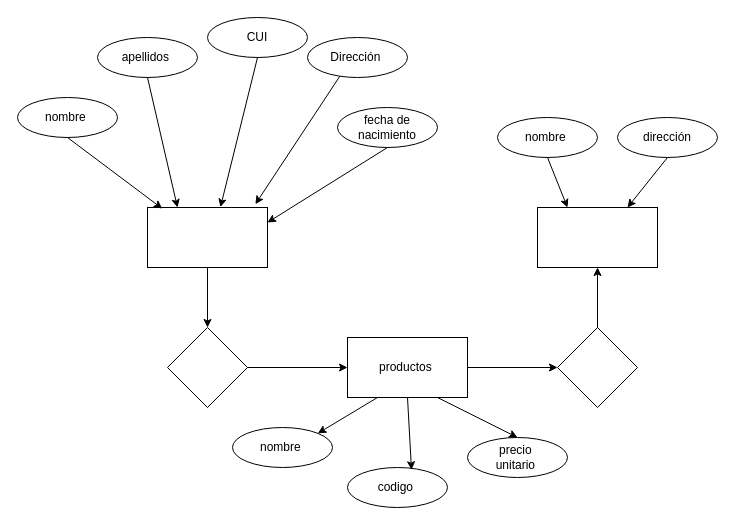
This 735x525 diagram has some shape labels left out. Here are the shapes that lost their labels. From the top down, the centre of each, then its label:
At [207,237]: "Clientes".
At [597,237]: "proveedores".
At [207,367]: "compra".
At [597,367]: "suministro".
